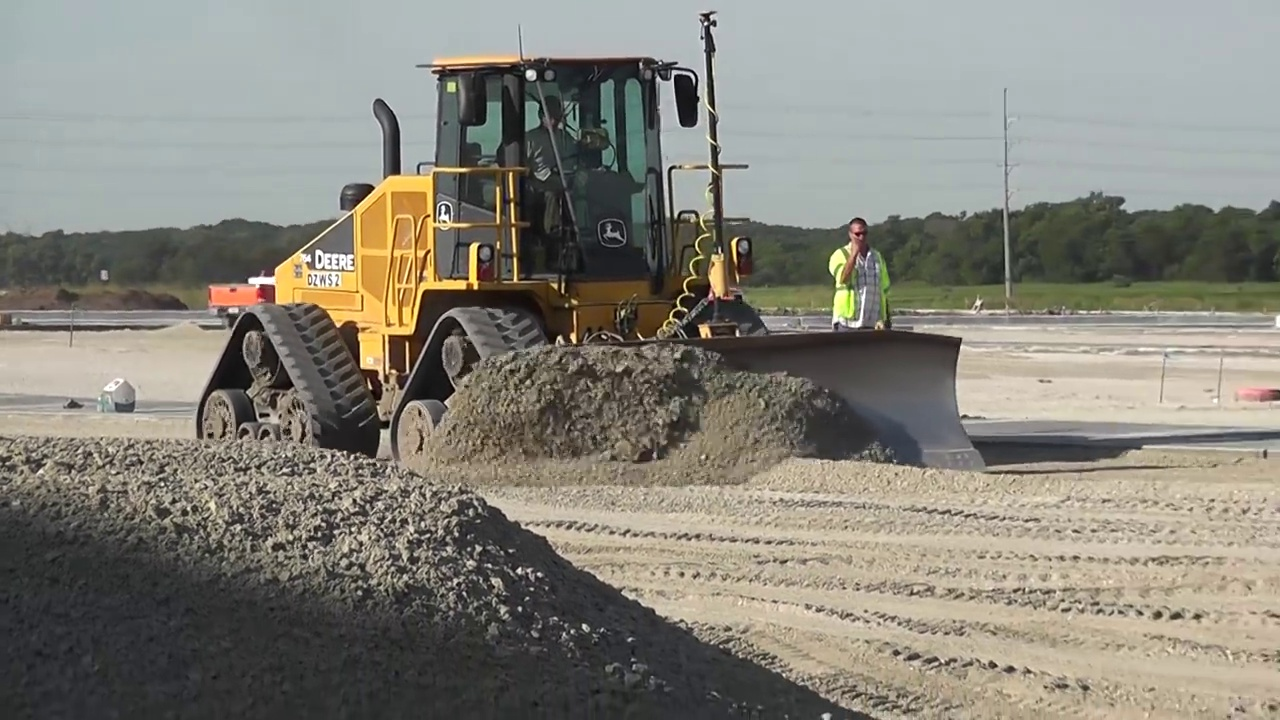bulldozer: (196, 33, 987, 497)
person: (521, 93, 578, 267), (830, 211, 892, 339)
